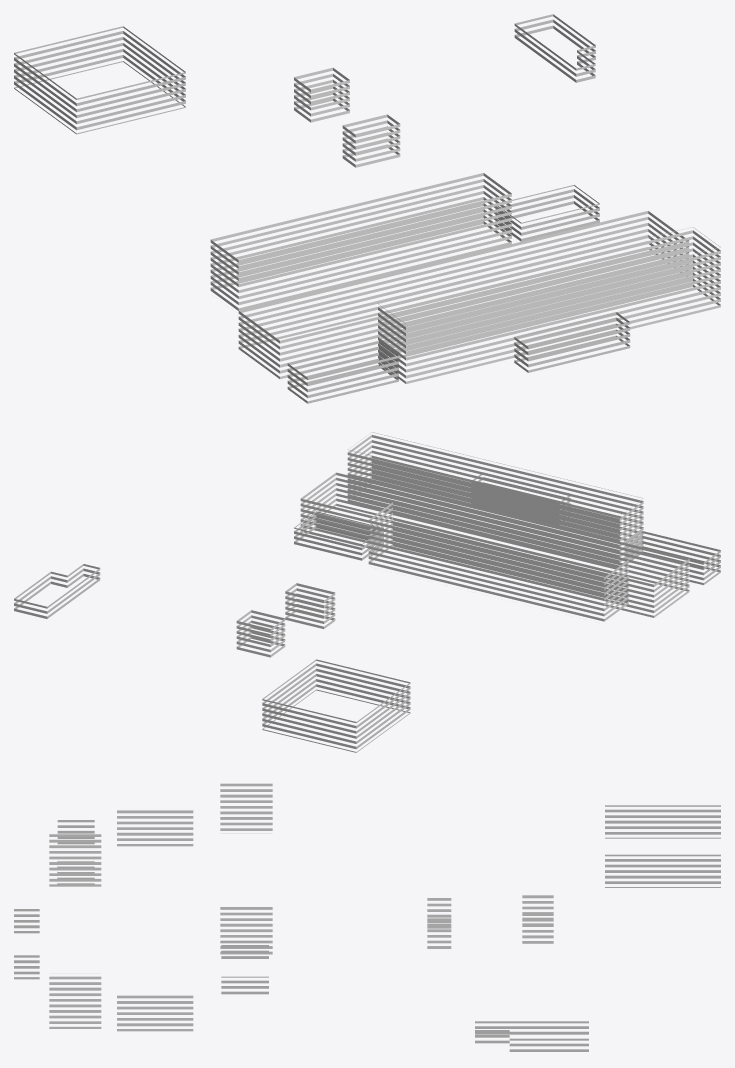
The model's file is 四色图.gltf.
The picture shows the model from 3 angles, top to bottom: view 1: azimuth 30°, elevation 25°; view 2: azimuth 150°, elevation 25°; view 3: azimuth 270°, elevation 25°; orthographic projection. The views are drawn at different scales.
Visible parts, largest first — view 1: 四色图低风险区域, 四色图一般风险区域; view 2: 四色图低风险区域, 四色图一般风险区域; view 3: 四色图低风险区域, 四色图一般风险区域.
Boxes of the visible parts, x1,y1,x2,y2 form: 四色图低风险区域: (210,67,720,383); 四色图一般风险区域: (14,14,630,403); 四色图低风险区域: (236,432,689,657); 四色图一般风险区域: (14,472,720,752); 四色图低风险区域: (49,783,553,1031); 四色图一般风险区域: (14,805,720,1051).
Bounding box in the file's own units: 347 × 48.07 × 430.
2 materials, 2 textured.
